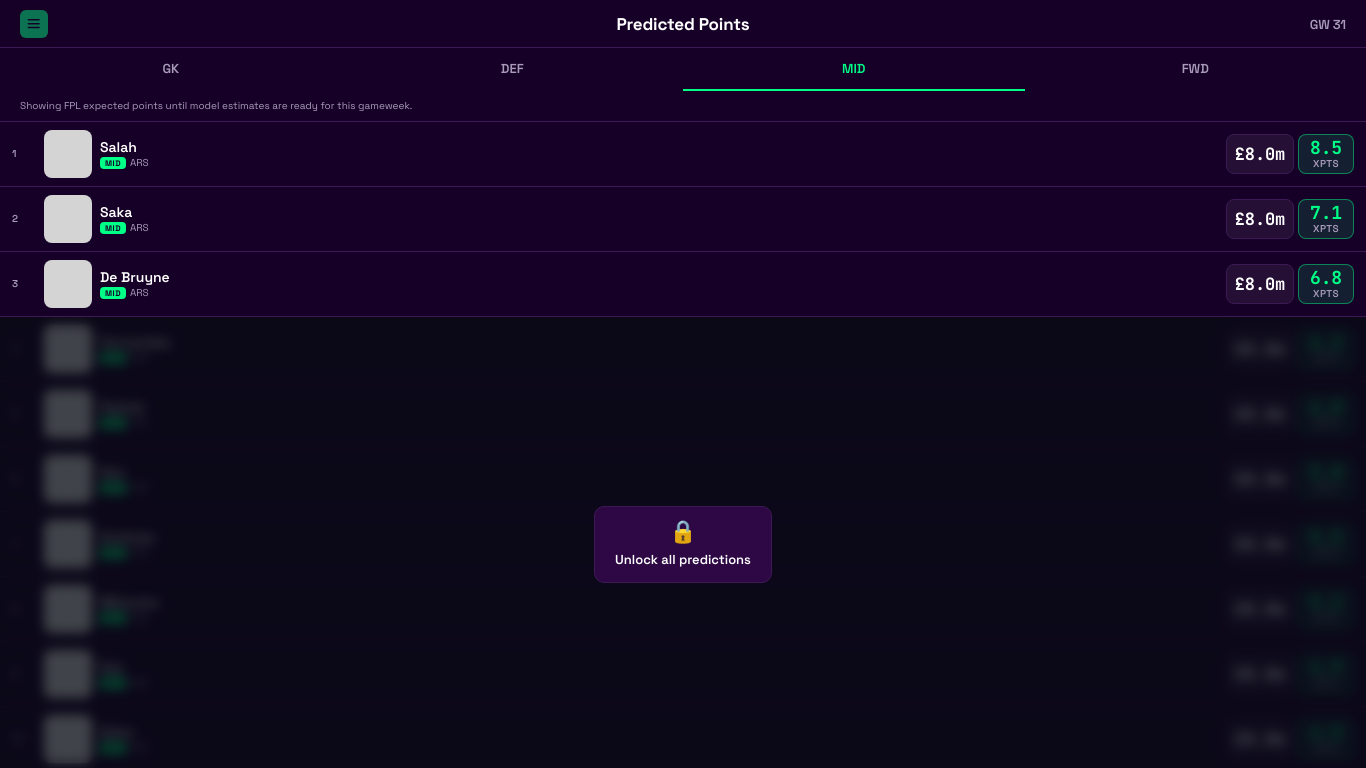
Test: PredictedPointsScreen › tab switching › switches to FWD tab and shows forward players
Click the tab "FWD" at (1195, 70), box [1024,48,1365,91]
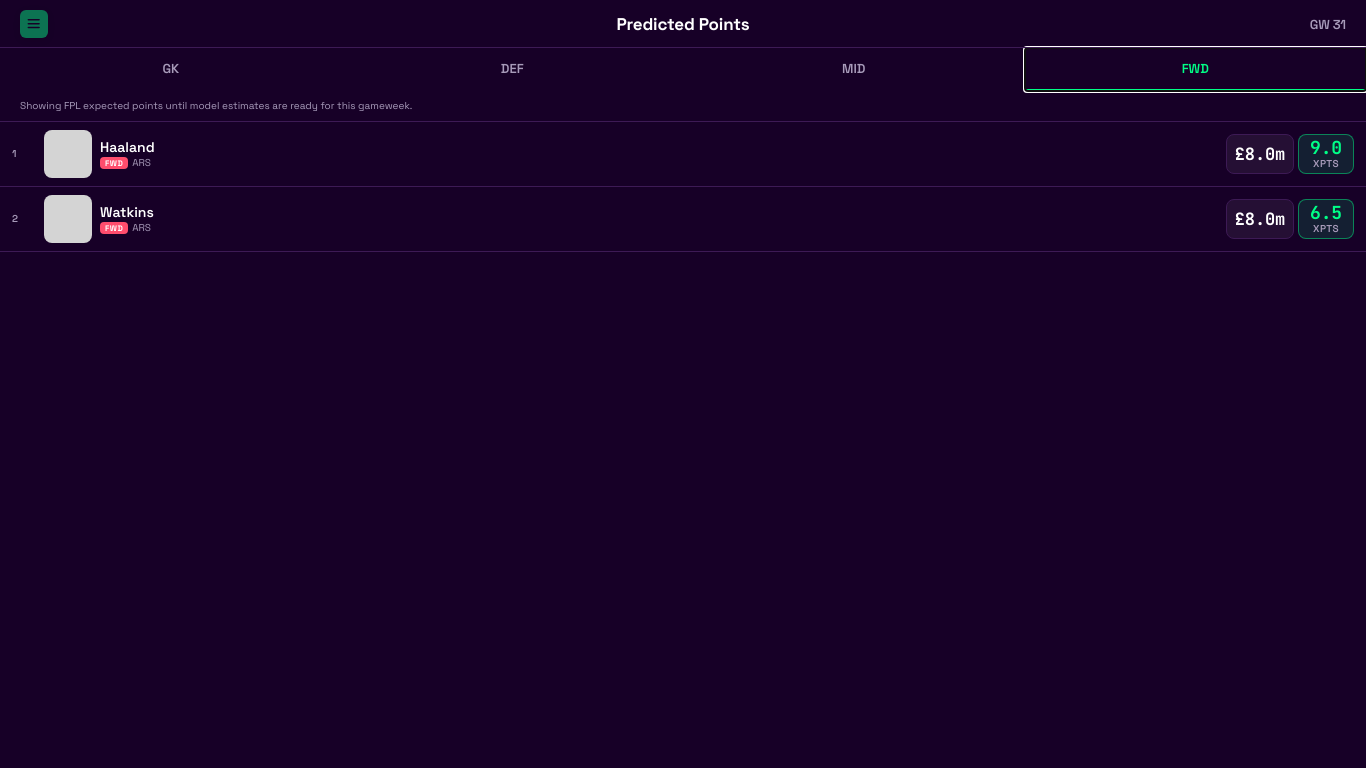
Expected: the text "Haaland" is shown, [100,138,155,156]
Expected: the text "Salah" is gone
